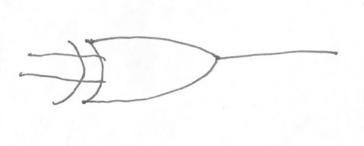XOR: (49, 25, 235, 113)
